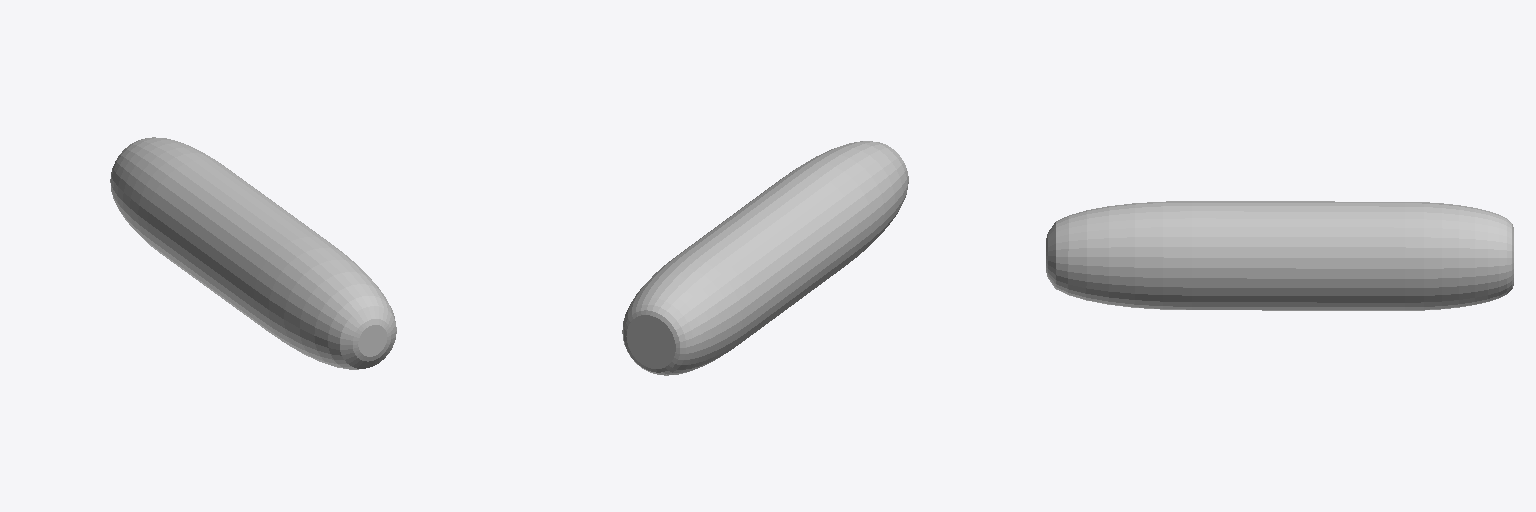
Rendered from Bullet.obj.
3 views of the same model, side by side, from view 1: azimuth 30°, elevation 25°; view 2: azimuth 150°, elevation 25°; view 3: azimuth 270°, elevation 25° (orthographic).
Parts seen in each view (by area): view 1: Cylinder; view 2: Cylinder; view 3: Cylinder.
Boxes of the visible parts, box(x1,y1,x2,y2) form: Cylinder: box(110, 137, 396, 369); Cylinder: box(622, 141, 908, 375); Cylinder: box(1046, 201, 1513, 310).
Size of the model in its own units: 0.1916 by 0.1973 by 0.8359.